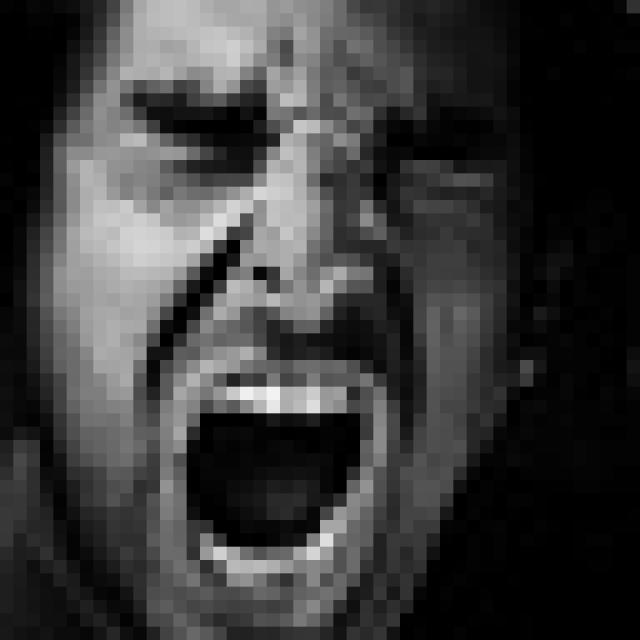angry: (111, 72, 500, 612)
